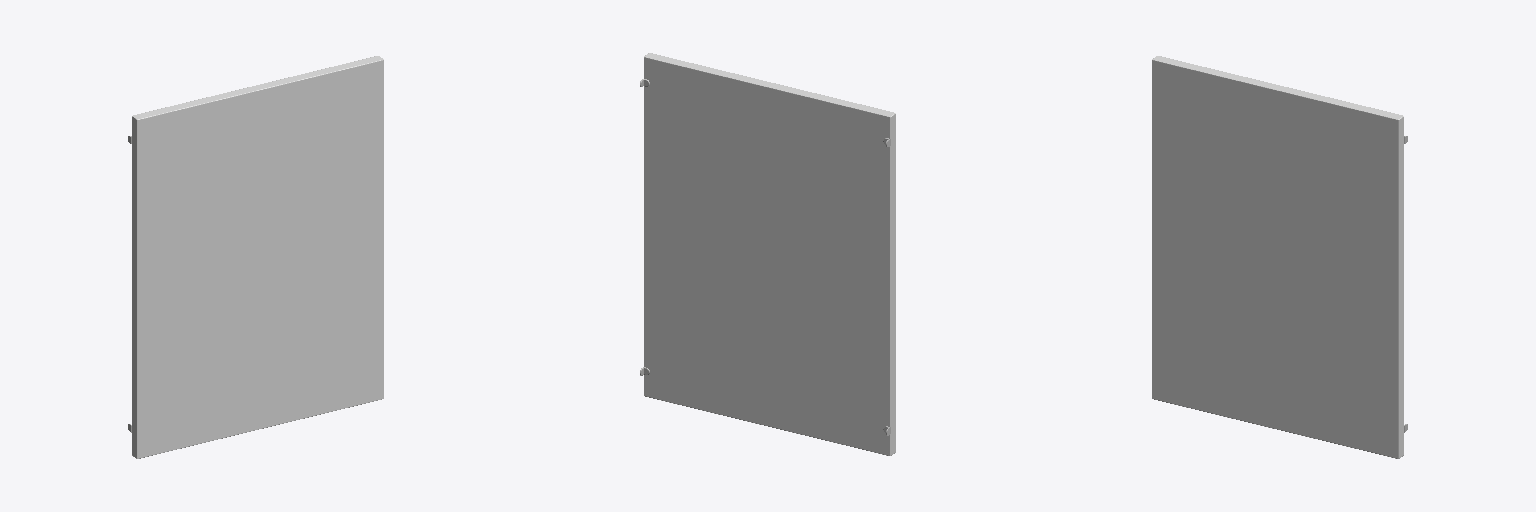
The picture shows the model from 3 angles: view 1: azimuth 30°, elevation 25°; view 2: azimuth 150°, elevation 25°; view 3: azimuth 330°, elevation 25°; orthographic projection.
Visible parts, largest first — view 1: SM_Kitchen_02_Shelf; view 2: SM_Kitchen_02_Shelf; view 3: SM_Kitchen_02_Shelf.
Boxes of the visible parts, <box> form: SM_Kitchen_02_Shelf: <box>128,56,383,458</box>; SM_Kitchen_02_Shelf: <box>640,53,895,455</box>; SM_Kitchen_02_Shelf: <box>1152,56,1407,458</box>.
Bounding box in the file's own units: 0.368 × 0.4829 × 0.0249.
2 materials, 1 textured.